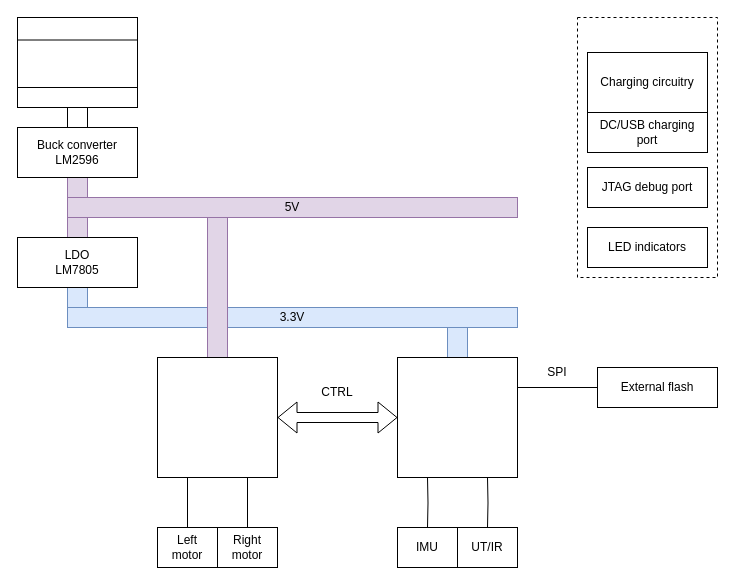
This 735x585 diagram has some shape labels left out. Here are the shapes that lost their labels. From the top down, the box of each, then its label:
(16, 16, 138, 108): 11.1V Li-Po (6V-12.6V)
(576, 16, 718, 278): Nice to have
(156, 356, 278, 478): Dual motor driver L293D
(396, 356, 518, 478): Connectivity ESP8266
